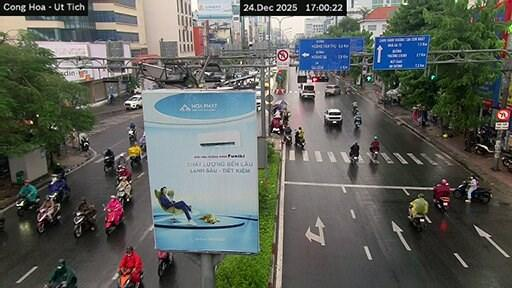motorbike: (37, 203, 60, 233), (48, 174, 70, 202), (73, 211, 95, 237), (104, 206, 123, 234), (15, 197, 39, 216), (117, 269, 142, 287), (157, 250, 173, 276), (116, 183, 132, 206), (471, 188, 491, 203), (409, 214, 425, 231), (475, 141, 494, 154), (434, 197, 449, 211), (104, 156, 114, 173), (79, 137, 89, 151), (44, 281, 67, 287), (130, 156, 141, 168), (128, 129, 136, 144), (295, 137, 305, 148), (284, 133, 291, 145), (349, 154, 358, 163), (371, 149, 378, 159), (354, 119, 361, 128), (352, 106, 358, 114)
